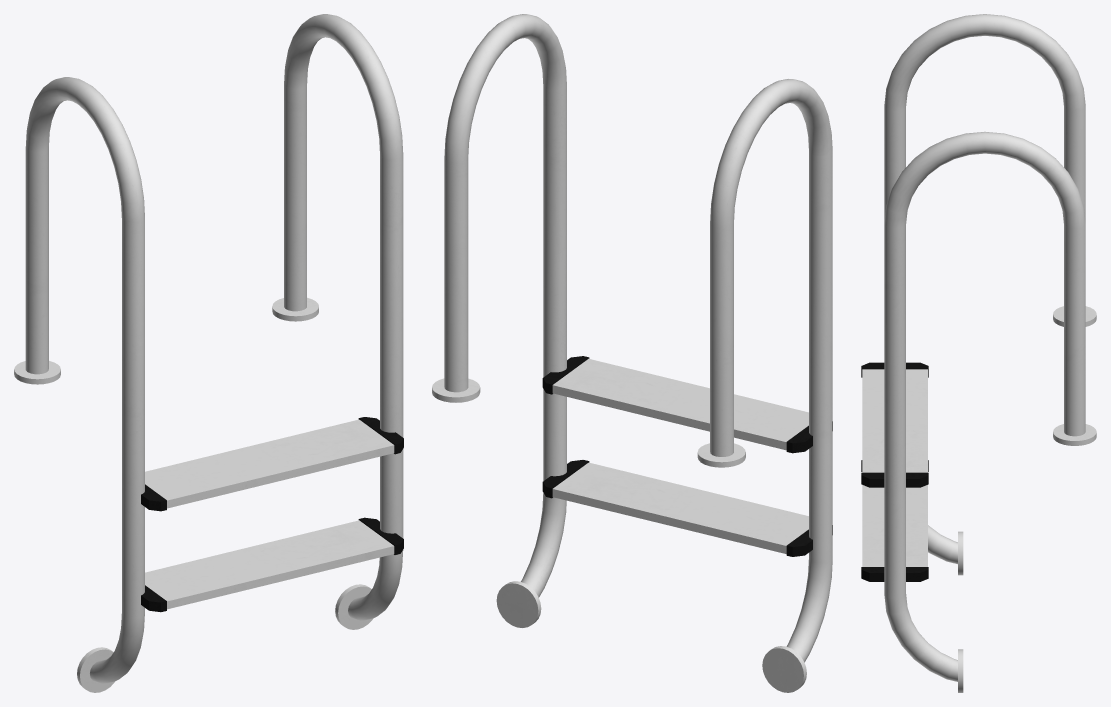
Rendered from PoolLadder.obj.
The picture shows the model from 3 angles, left to right: view 1: azimuth 30°, elevation 25°; view 2: azimuth 150°, elevation 25°; view 3: azimuth 270°, elevation 25°; orthographic projection. The views are drawn at different scales.
Visible parts, largest first — view 1: PoolLadder3; view 2: PoolLadder3; view 3: PoolLadder3.
Part boxes in pixels (x1,y1,x2,y2): PoolLadder3: (14,14,403,692); PoolLadder3: (432,14,832,692); PoolLadder3: (861,14,1096,692).
Bounding box in the file's own units: 0.5896 × 1.13 × 0.4306.
